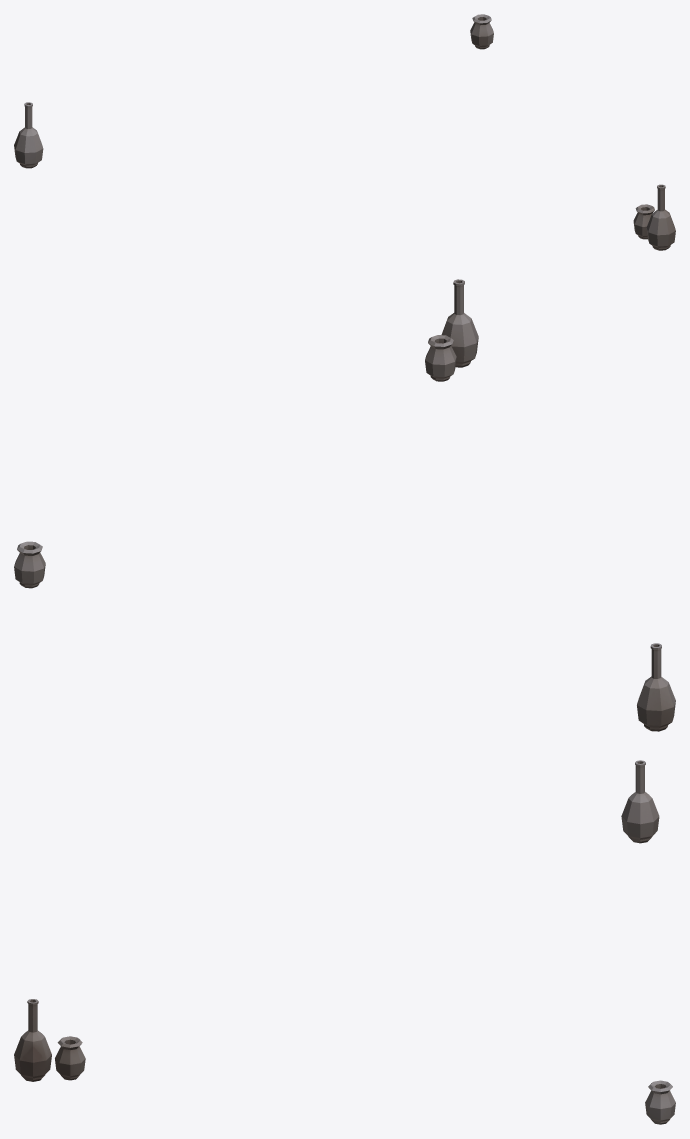
3 views of the same model, one above another, from view 1: azimuth 30°, elevation 25°; view 2: azimuth 150°, elevation 25°; view 3: azimuth 270°, elevation 25° (orthographic). The views are drawn at different scales.
Visible parts, largest first — view 1: Ob_01; view 2: Ob_01; view 3: Ob_01.
Part boxes in pixels (box(x1,y1,x2,y2)): Ob_01: box(14, 14, 675, 250); Ob_01: box(14, 279, 675, 731); Ob_01: box(14, 760, 675, 1124).
Size of the model in its own units: 15.75 by 1.9 by 14.86.
